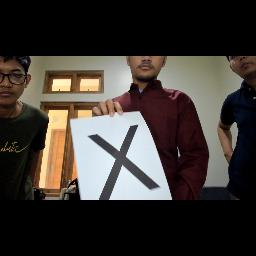x: (87, 122, 163, 200)
